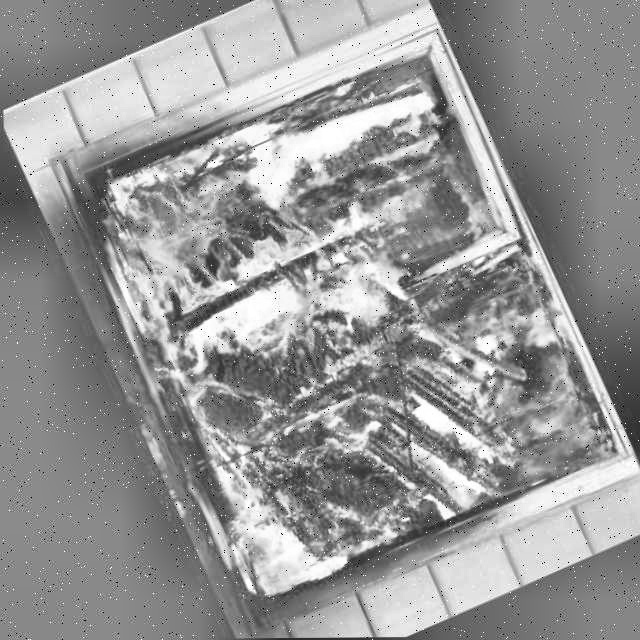Fire: (67, 39, 614, 611)
